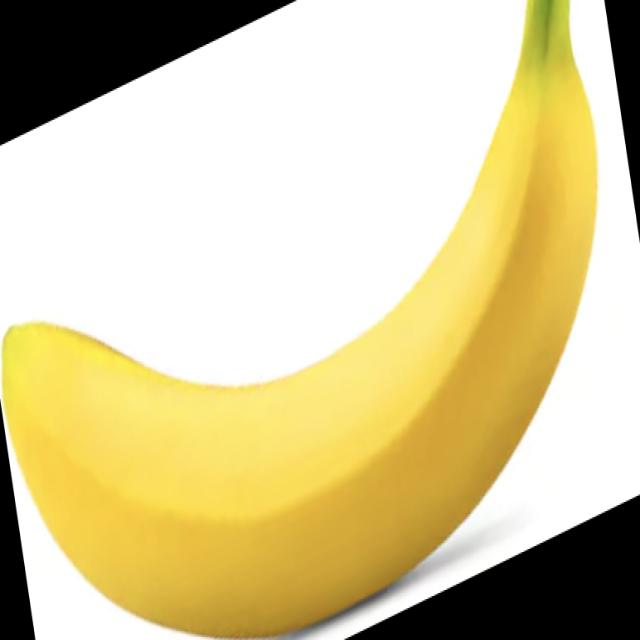god quality banana: (2, 0, 598, 636)
